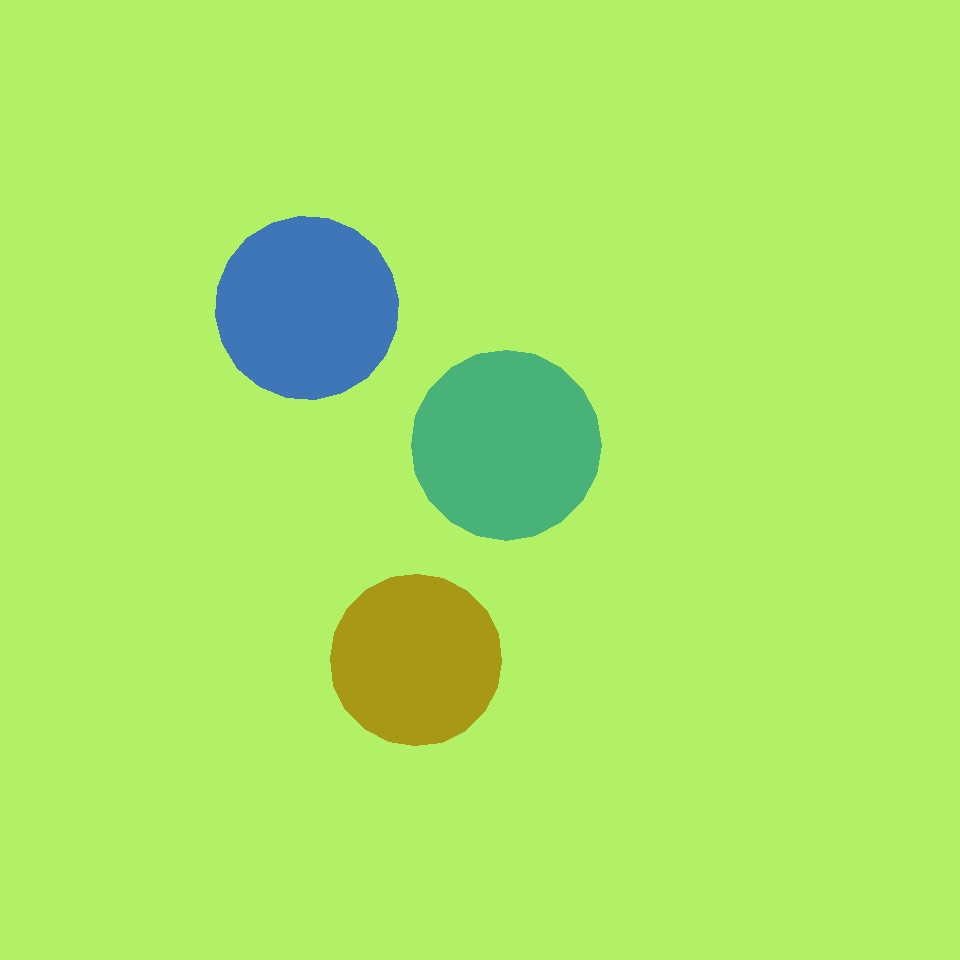circle: (375, 463, 477, 555)
square: (116, 402, 229, 516)
triangle: (62, 527, 329, 794), (411, 350, 601, 540), (215, 217, 398, 400), (330, 574, 502, 746)
